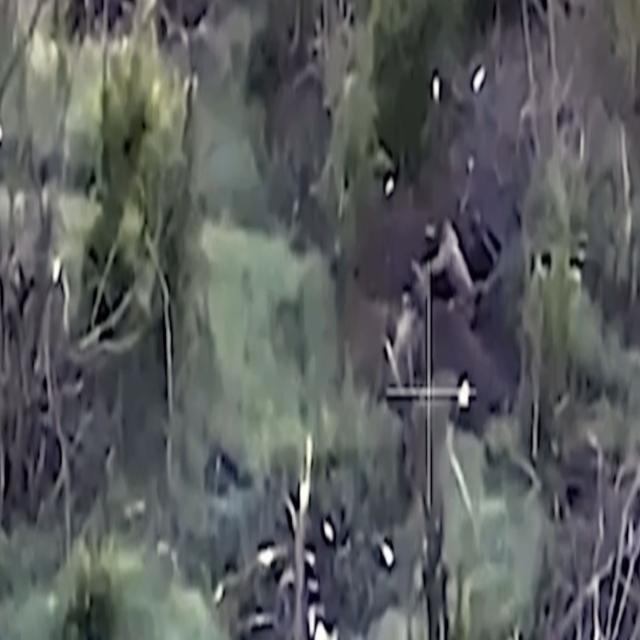infantry: (432, 213, 473, 297), (388, 286, 416, 393)
